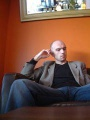male: (47, 41, 69, 65)
